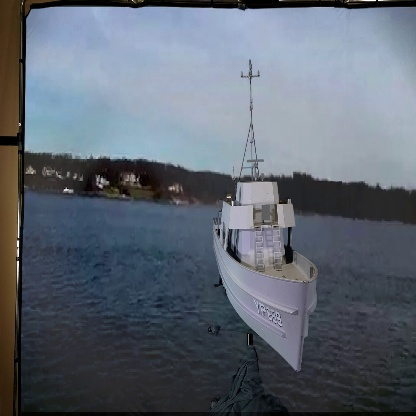YP689: (212, 59, 318, 371)
